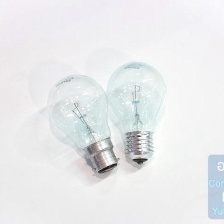light_bulb: (99, 54, 174, 172), (41, 69, 122, 178)
